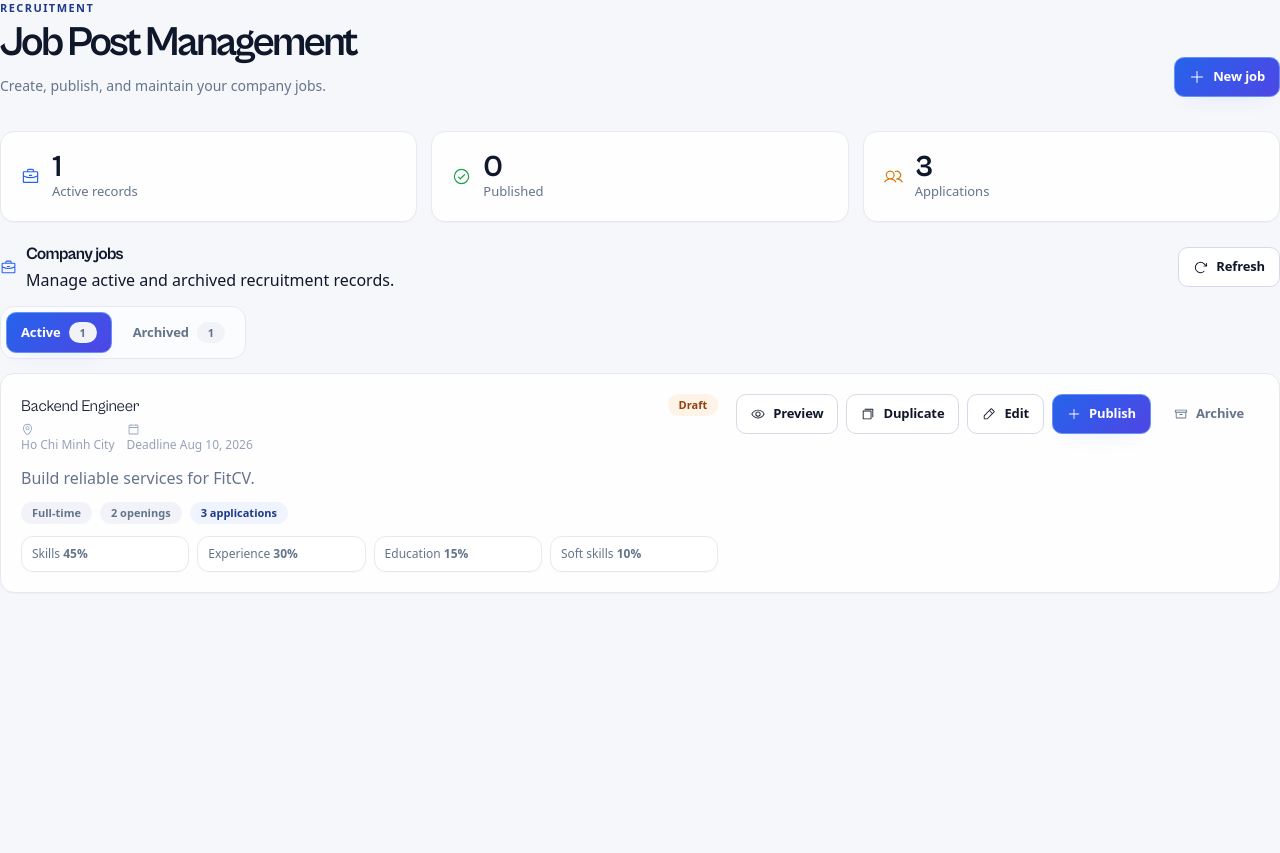
it: JobPostsScreen › previews a company job and duplicates it as a separate draft
Expected: the heading "Backend Engineer" is shown, [21,397,139,415]
Step 1. Click the button "Preview" → (787, 414), box [736,394,838,434]
(page scrolled)
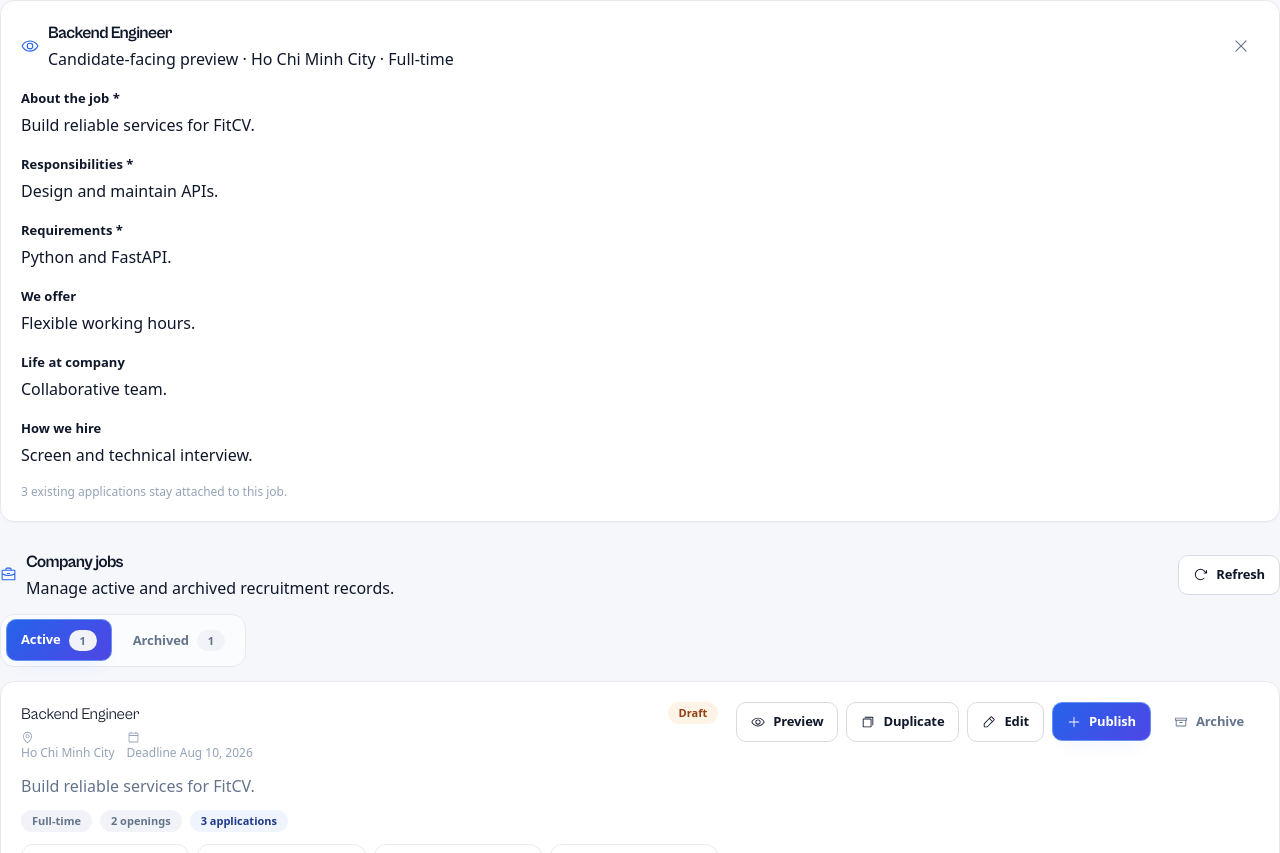
Expected: the element named "Job post preview" is shown
Step 2. Click the button "Duplicate" → (903, 722), box [846,702,959,741]
(page scrolled)
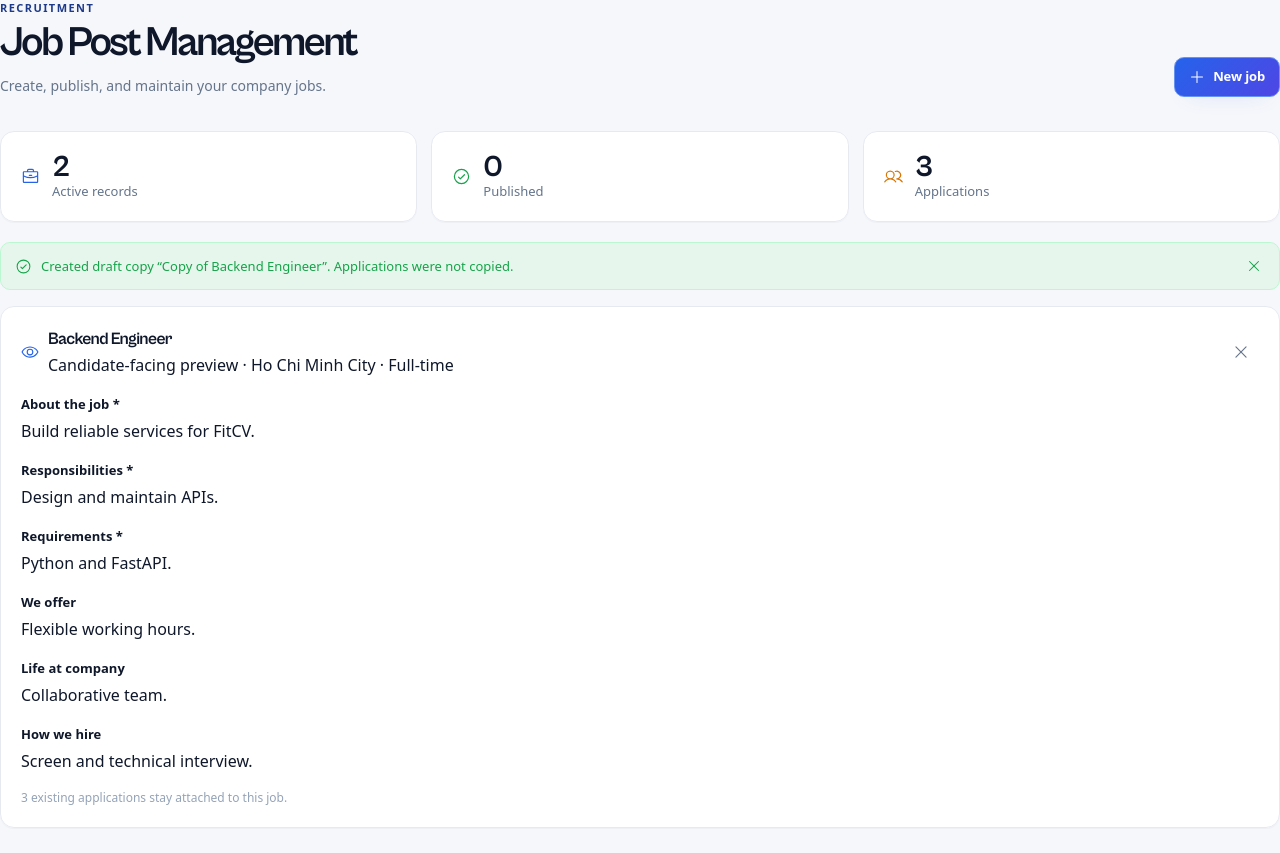
Expected: the text "Created draft copy “Copy of Backend Engineer”. Applications were not copied." is shown, [41,257,514,275]
